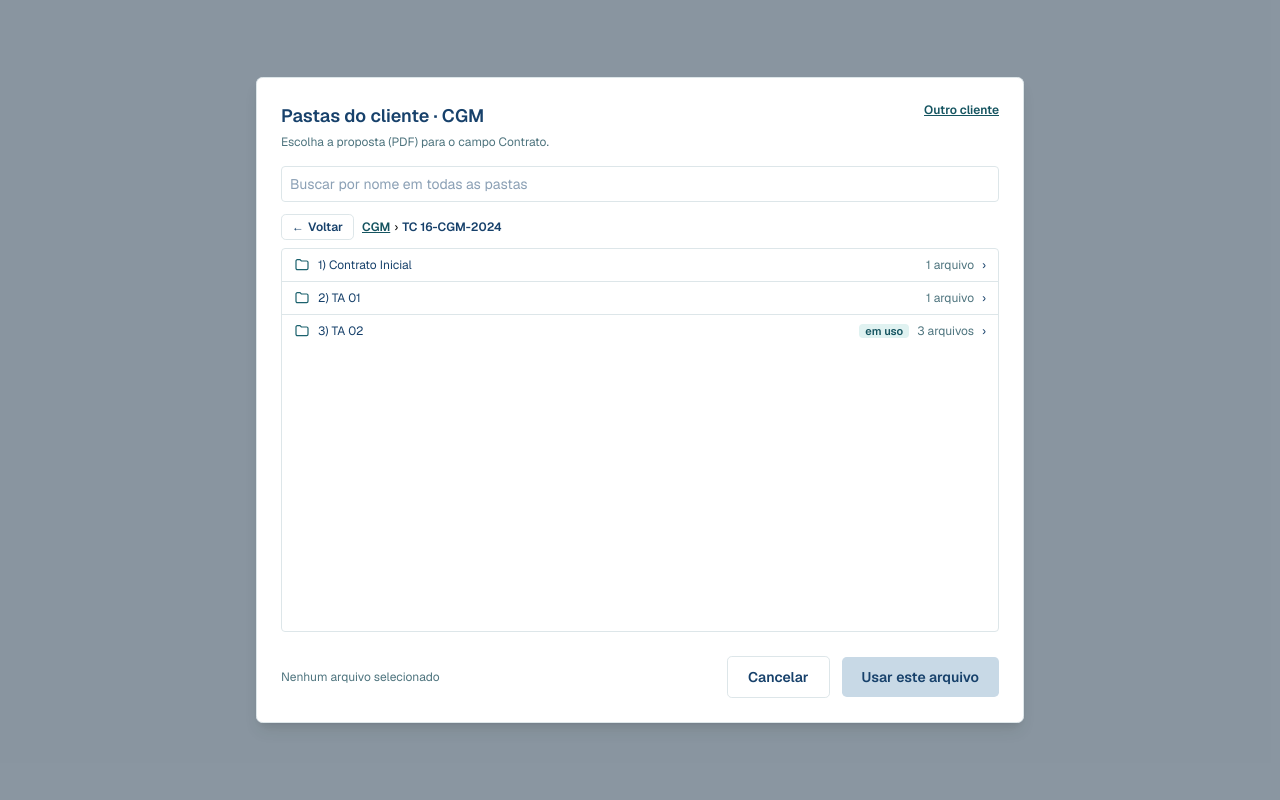
Test: em uso: no arquivo e na pasta que o contém
The width and height of the screenshot is (1280, 800).
Expected: the text "em uso" is shown, top-left (859, 324), bottom-right (909, 338)
Click the button "3) TA 02 em uso 3 arquivos ›" at (341, 331), box top-left (282, 315), bottom-right (998, 347)
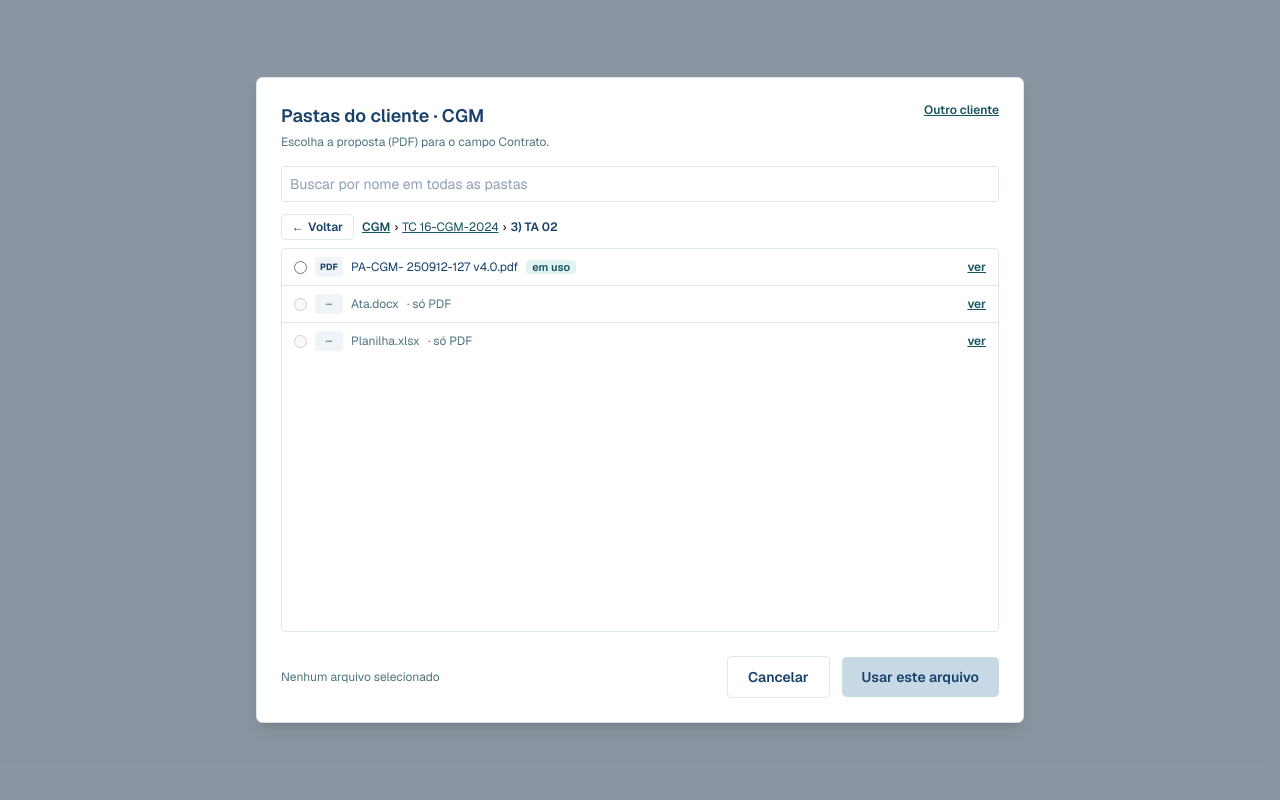
Expected: the radio button labelled "PDF PA-CGM- 250912-127 v4.0.pdf em uso" is shown, top-left (294, 260), bottom-right (307, 274)
